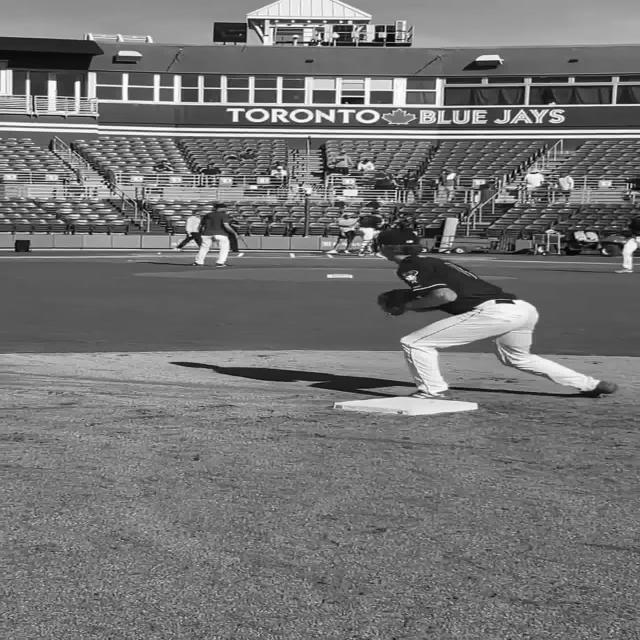base: (333, 396, 478, 415)
baseball_glove: (378, 289, 413, 316)
shoe: (580, 381, 618, 398), (407, 390, 453, 400)
